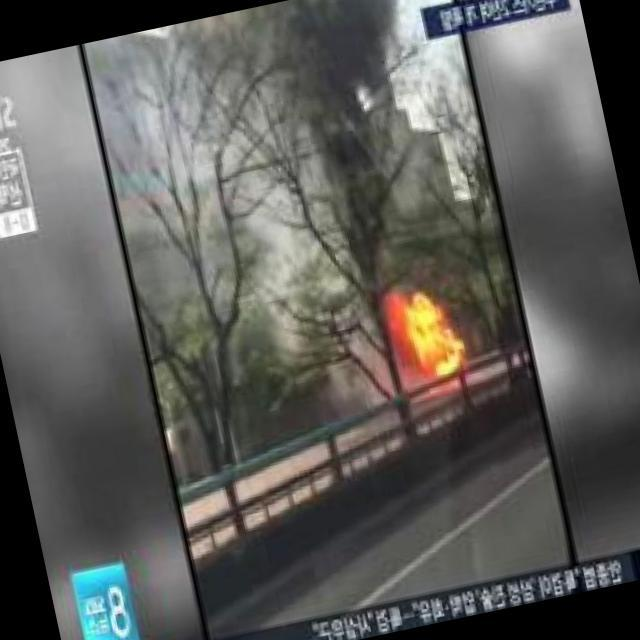Fire: (376, 275, 478, 383)
